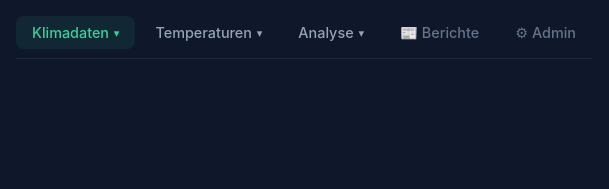
it: NavBar › öffnet Analyse-Dropdown
Hover over the text "Analyse" at {"x": 331, "y": 32}, box top-left (282, 16), bottom-right (380, 49)
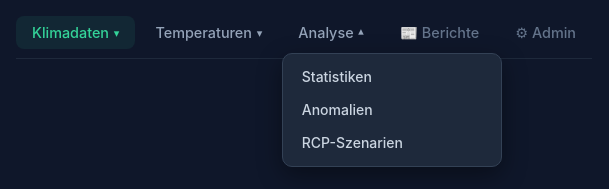
Check: the text "Statistiken" is shown, box top-left (302, 68), bottom-right (372, 85)
Check: the text "Anomalien" is shown, box top-left (302, 101), bottom-right (373, 118)
